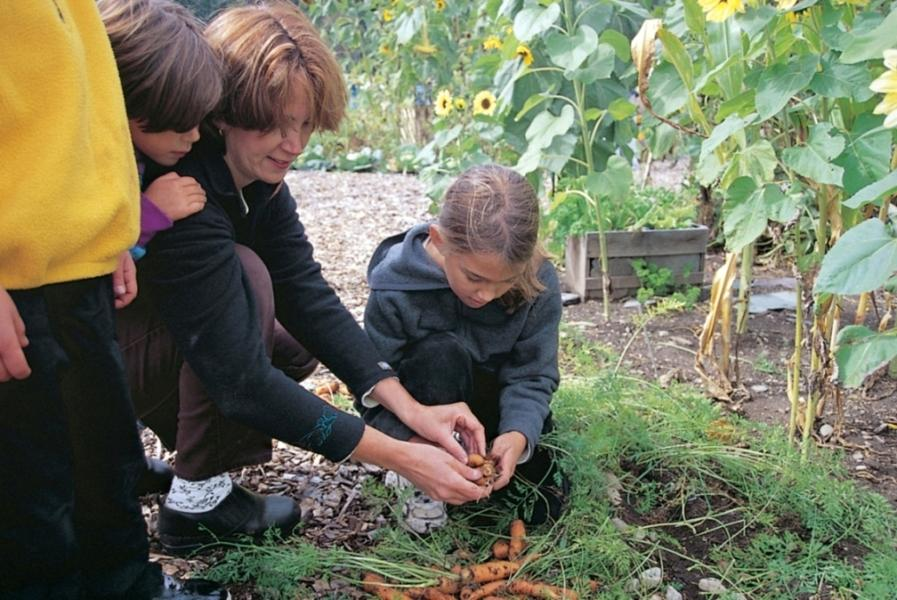person: (351, 165, 566, 536)
